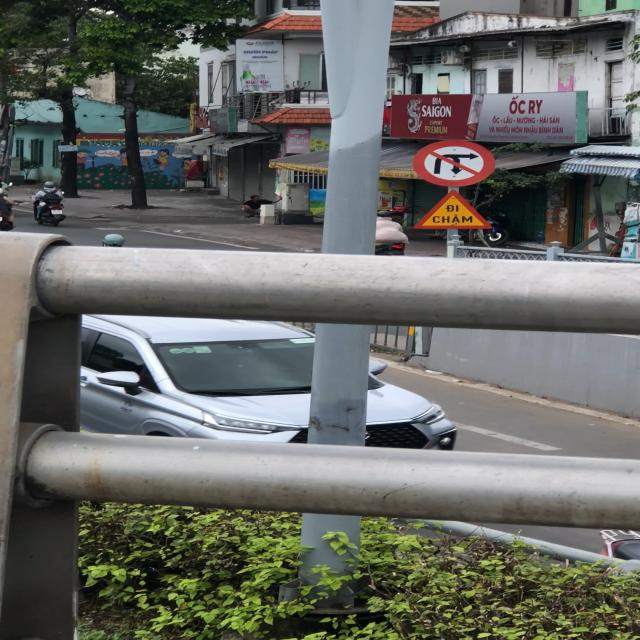Bien bao cam re phai va quay dau: (410, 136, 498, 190)
Bien bao di cham: (408, 186, 496, 237)
